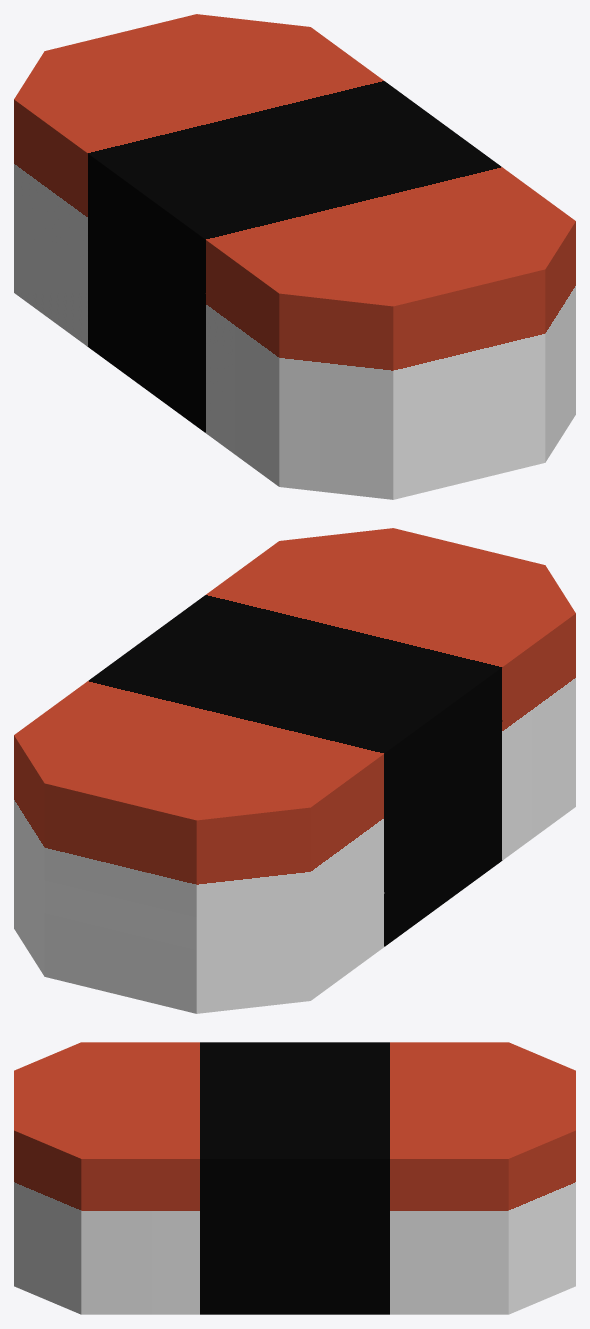
File: spam_musubi.glb
3 views of the same model, one above another, from view 1: azimuth 30°, elevation 25°; view 2: azimuth 150°, elevation 25°; view 3: azimuth 270°, elevation 25° (orthographic). The views are drawn at different scales.
Visible parts, largest first — view 1: Cube; view 2: Cube; view 3: Cube.
Boxes of the visible parts, box(x1,y1,x2,y2) form: Cube: box(14, 14, 575, 499); Cube: box(14, 528, 575, 1013); Cube: box(14, 1042, 575, 1314).
Size of the model in its own units: 3.5 by 2.18 by 7.12.
1 material, 1 textured.
